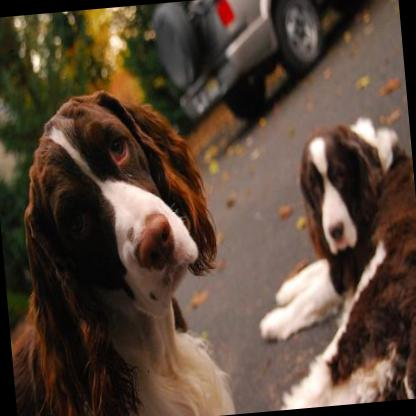English_springer: (0, 75, 237, 416), (241, 109, 416, 409)
